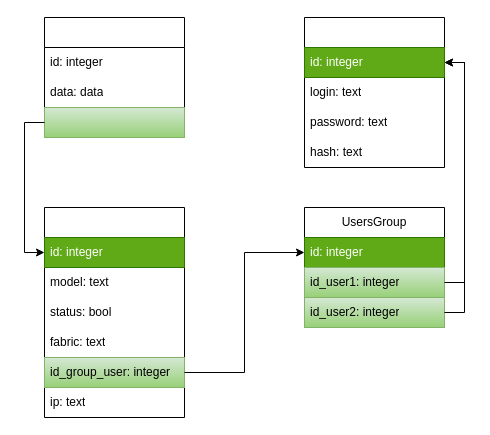
Some shapes in this 490 by 435 pixel diagram are drawn without their labels. The shapes that lost their labels are listed below. From the top down, each one's box as (x1, y1, x2, y2) in pixels, then its label:
(44, 16, 184, 138): Register
(304, 16, 444, 168): User
(44, 106, 184, 138): id_robot: integer
(44, 206, 184, 418): Robot
